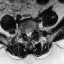CCS_normal: (28, 29, 30, 40)
LFS_stenosis: (32, 26, 35, 34)
LLS_normal: (30, 28, 32, 38)
RFS_severe_stenosis: (23, 28, 25, 35)
RLS_normal: (25, 28, 28, 39)
